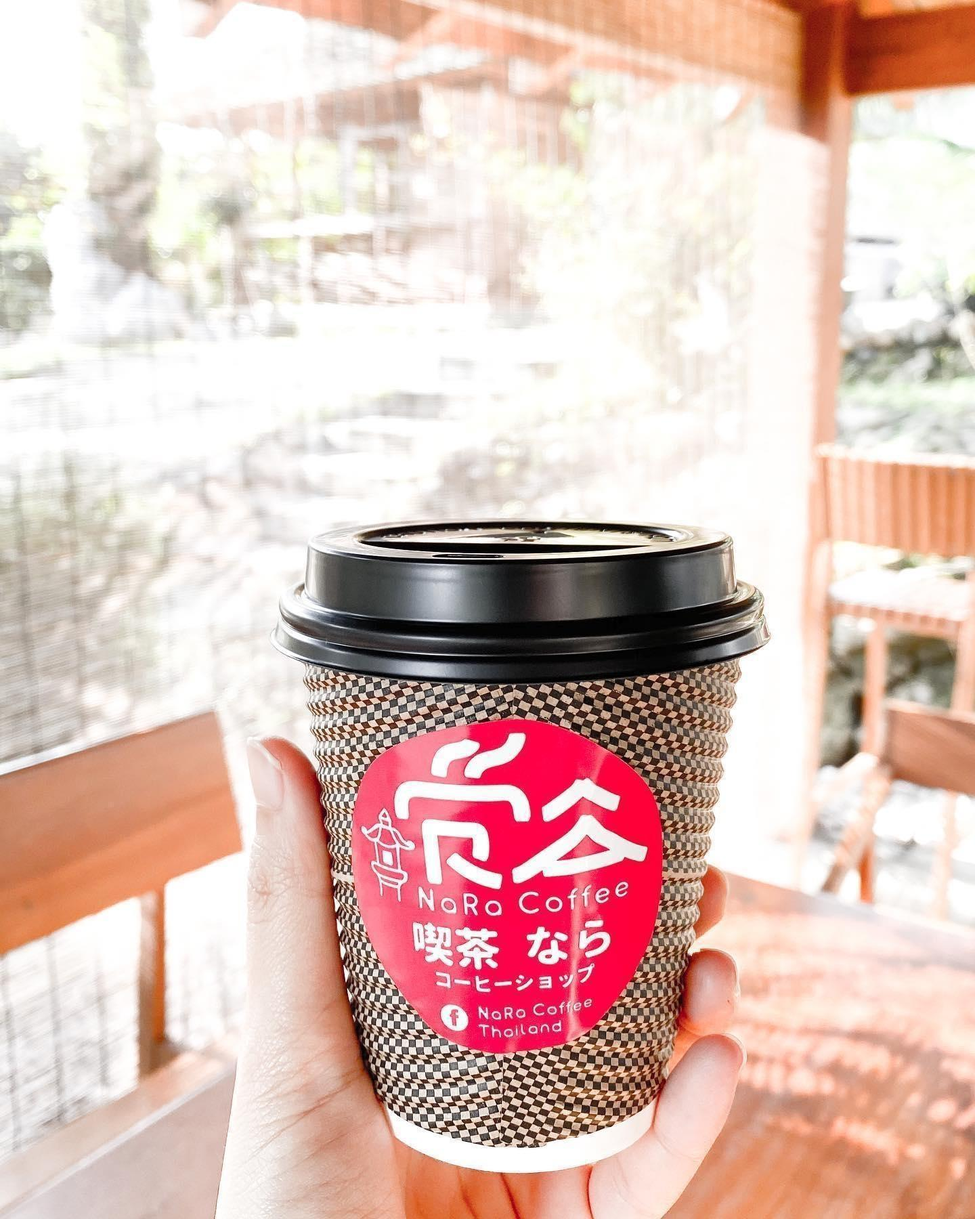cup-disposable: (278, 511, 771, 1186)
